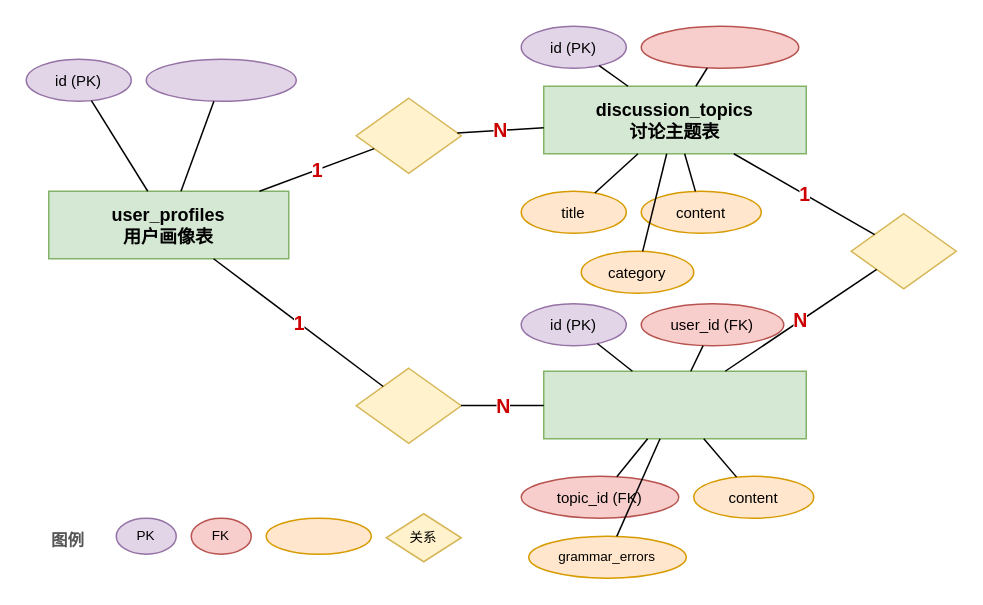
Image size: 983x605. Some labels were removed from this diagram. The shapes that lost their labels are listed below. From the top down, each one's centre as x and y in pixels, then its label:
At point 719,46: "creator_id (FK)".
At point 220,79: "username (UQ)".
At point 408,135: "发帖".
At point 903,250: "包含".
At point 408,405: "评论".
At point 674,404: "discussion_comments 讨论评论表".
At point 318,535: "普通属性".
